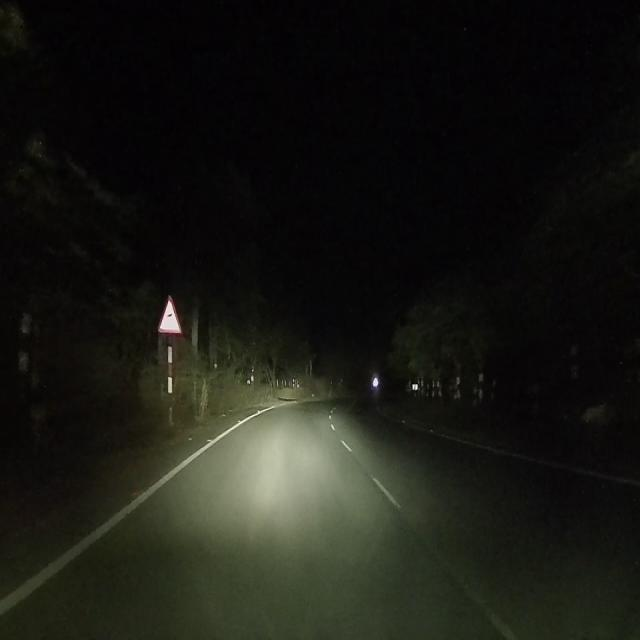left-hand-curve: (162, 296, 178, 328)
